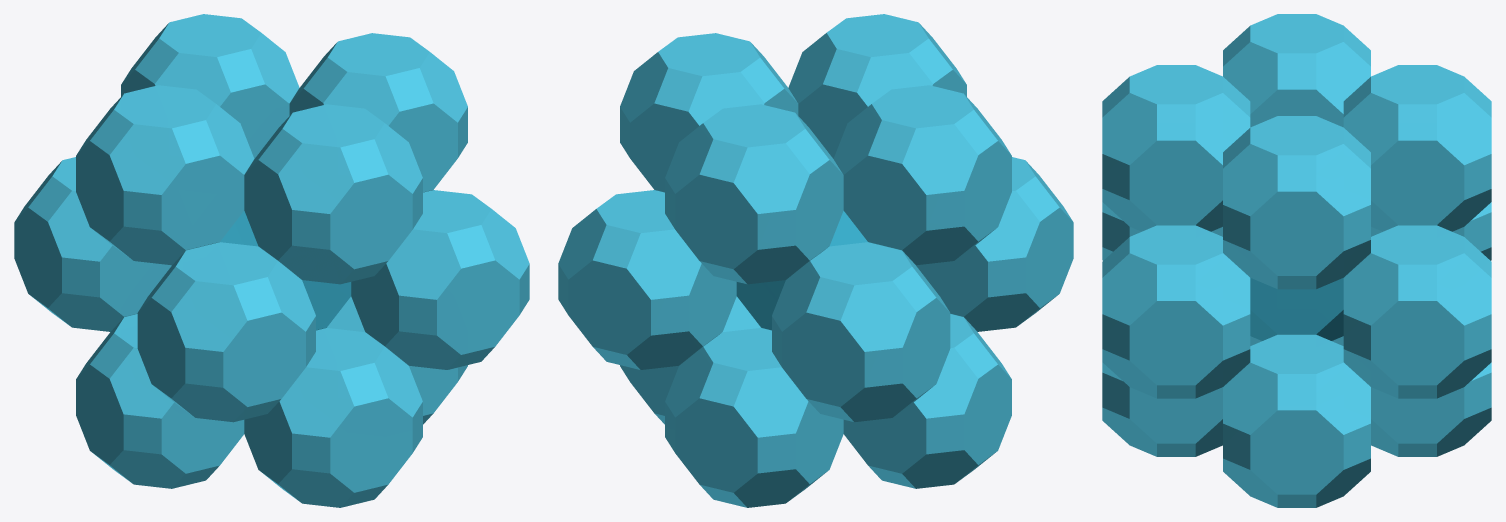
Rendered from fractaltruncatedcuboctahedron1.glb.
The picture shows the model from 3 angles, left to right: view 1: azimuth 30°, elevation 25°; view 2: azimuth 150°, elevation 25°; view 3: azimuth 270°, elevation 25°; orthographic projection. The views are drawn at different scales.
Size of the model in its own units: 8.71 by 8.71 by 8.71.
